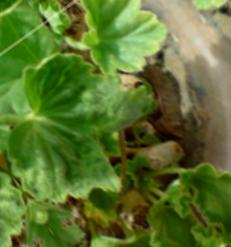Tomato leaf mosaic virus: (0, 15, 191, 232), (57, 0, 179, 92)
